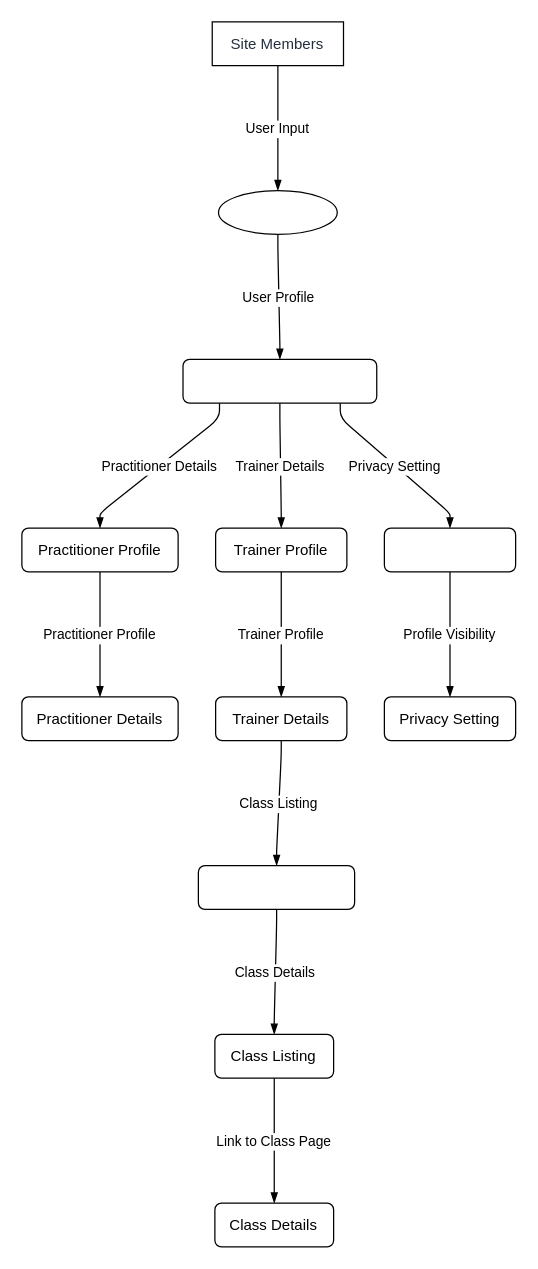
Image size: 538x1269. Some labels were removed from this diagram. Here are the shapes that lost their labels. From the top down, the box of each, then its label:
(217, 189, 337, 234): Describe Self
(182, 358, 377, 403): Semi-Structured Profile
(383, 527, 516, 572): Private Profile
(197, 864, 355, 909): Upcoming Classes
